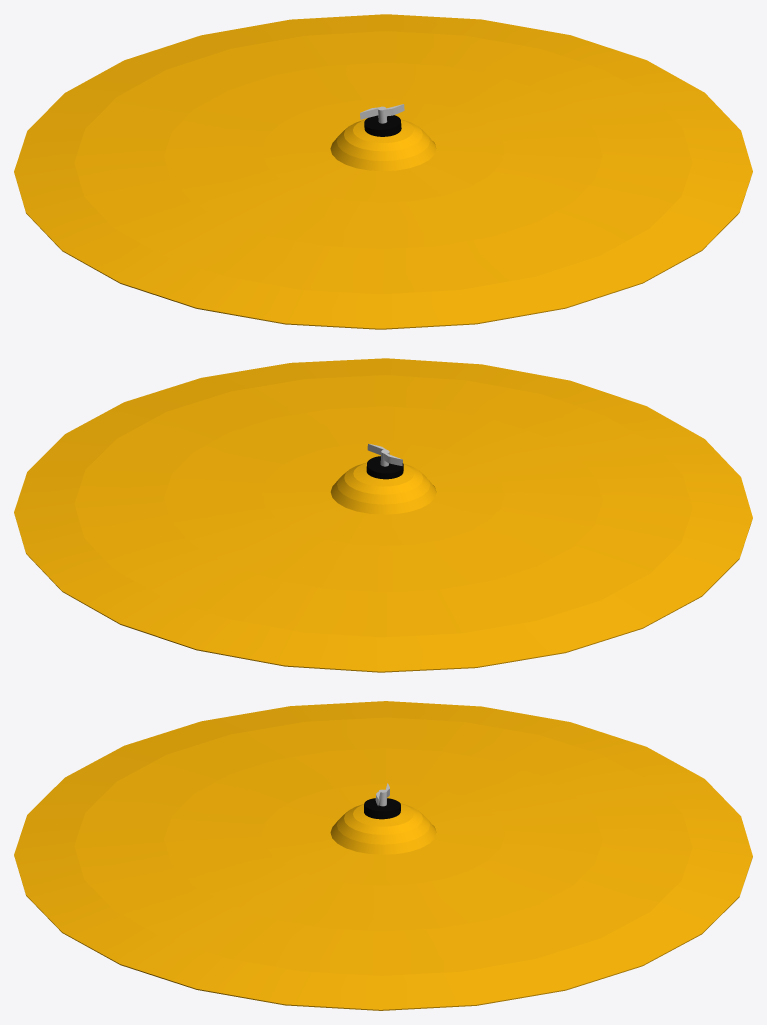
File: crash.DAE
The picture shows the model from 3 angles, top to bottom: view 1: azimuth 30°, elevation 25°; view 2: azimuth 150°, elevation 25°; view 3: azimuth 270°, elevation 25°; orthographic projection.
Parts seen in each view (by area): view 1: Révolution.1, Révolution, Cylindre.8; view 2: Révolution.1, Révolution, Cylindre.8; view 3: Révolution.1, Révolution, Cylindre.8.
Part boxes in pixels (<box>): Révolution.1: <box>14,14,752,329</box>; Révolution: <box>330,119,436,171</box>; Cylindre.8: <box>364,115,401,136</box>; Révolution.1: <box>14,358,752,672</box>; Révolution: <box>330,462,436,514</box>; Cylindre.8: <box>366,456,403,479</box>; Révolution.1: <box>14,701,752,1010</box>; Révolution: <box>330,803,436,854</box>; Cylindre.8: <box>364,798,400,819</box>.
Bounding box in the file's own units: 16.56 × 1.68 × 16.56.
